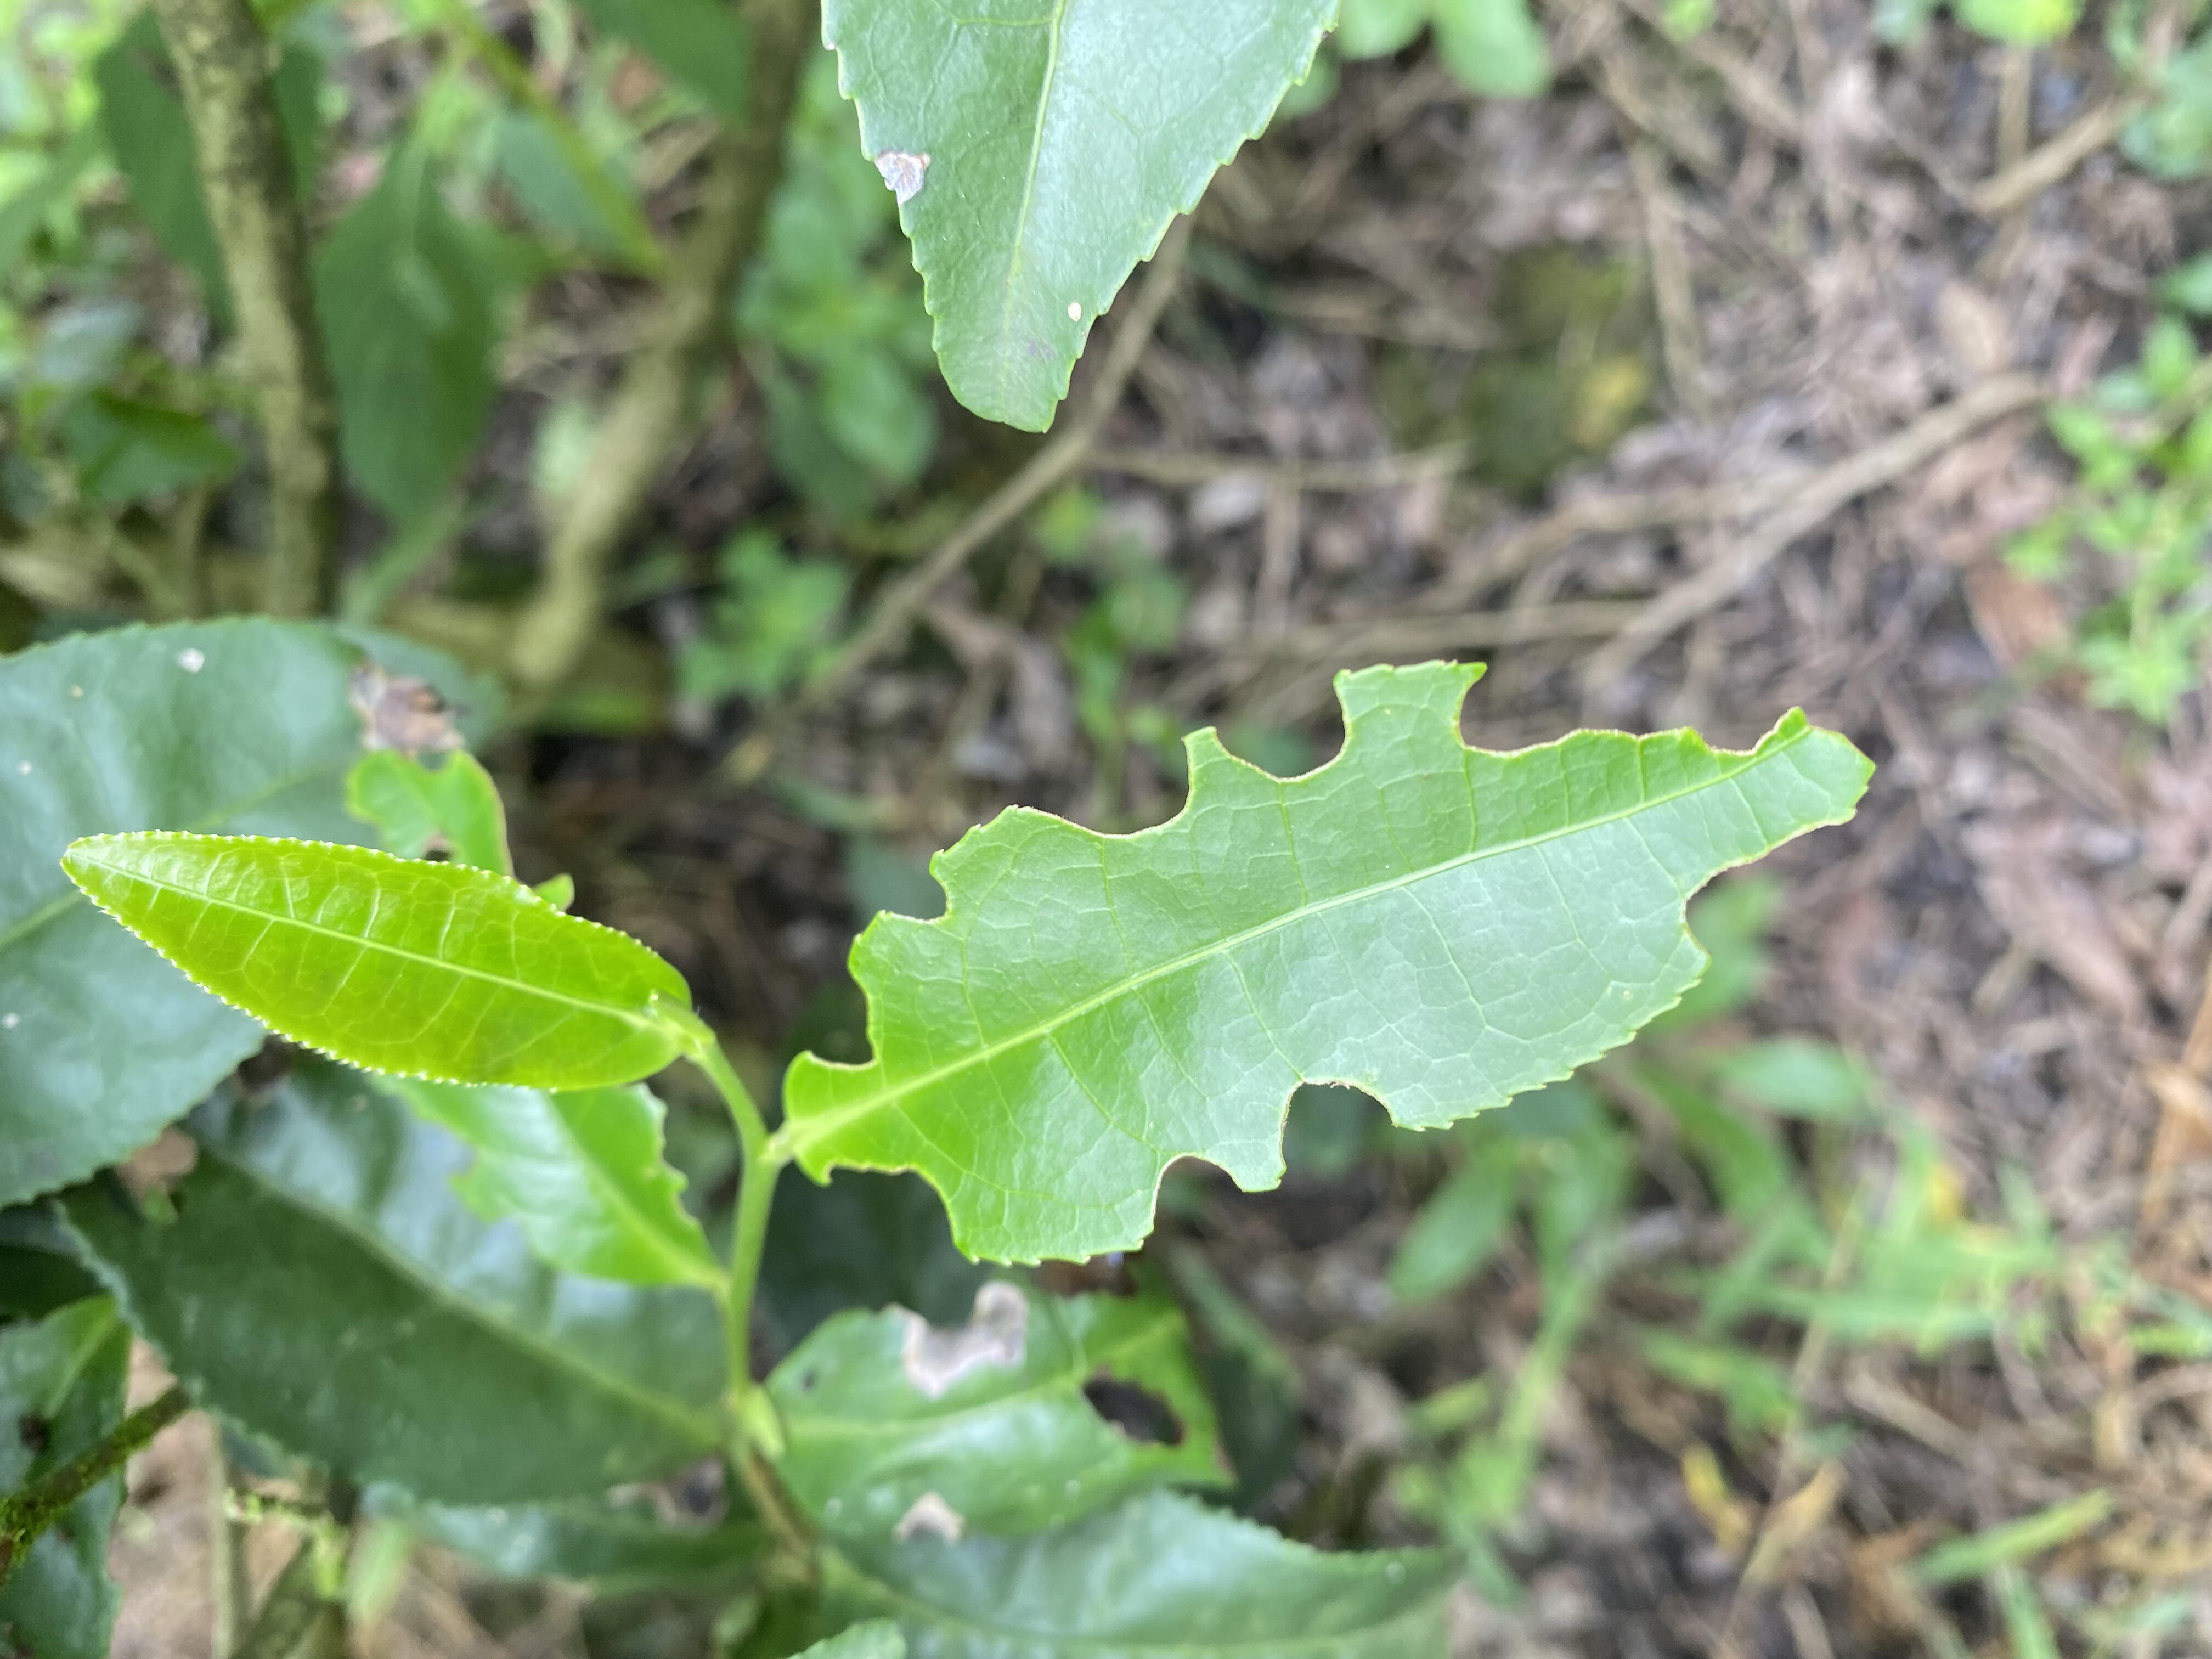chihuo_high: (791, 657, 1879, 1269), (343, 748, 732, 1295)
healthy: (54, 828, 693, 1089)
tanju_low: (813, 2, 1346, 432)
